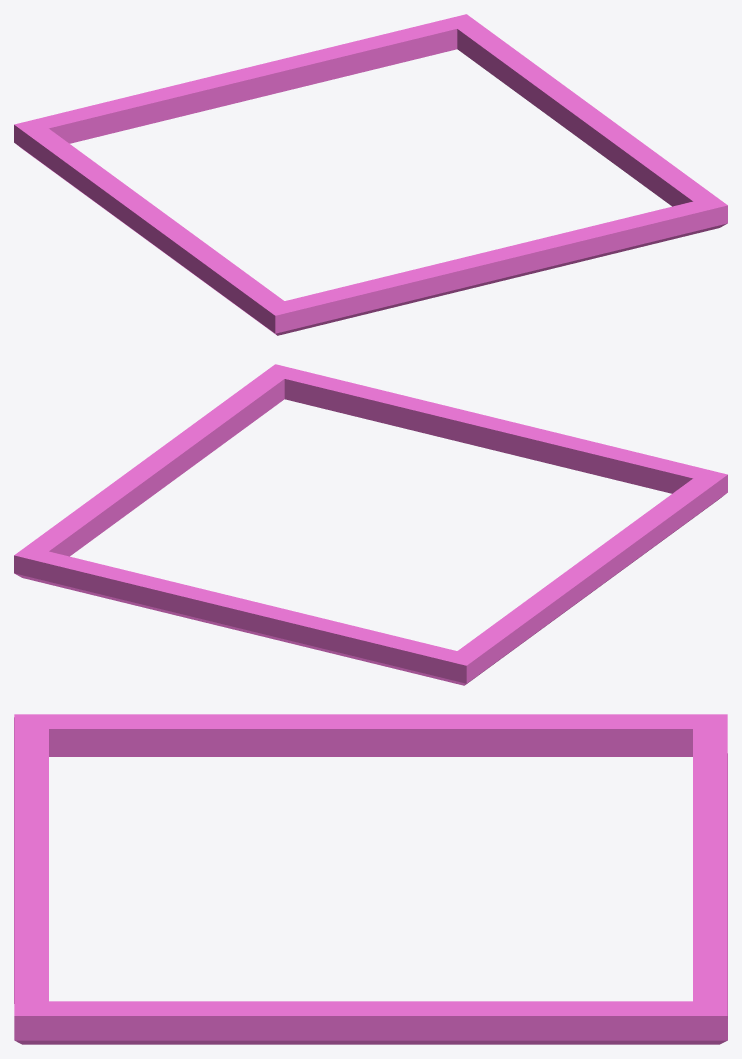
Rendered from SM_Tower_Square_6m_Trim_Stone_Fantasy.fbx.
The picture shows the model from 3 angles, top to bottom: view 1: azimuth 30°, elevation 25°; view 2: azimuth 150°, elevation 25°; view 3: azimuth 270°, elevation 25°; orthographic projection. The views are drawn at different scales.
Visible parts, largest first — view 1: SM_Tower_Square_6m_Trim_Stone_Fantasy; view 2: SM_Tower_Square_6m_Trim_Stone_Fantasy; view 3: SM_Tower_Square_6m_Trim_Stone_Fantasy.
Part boxes in pixels (box(x1,y1,x2,y2)): SM_Tower_Square_6m_Trim_Stone_Fantasy: box(14, 14, 727, 335); SM_Tower_Square_6m_Trim_Stone_Fantasy: box(14, 364, 727, 685); SM_Tower_Square_6m_Trim_Stone_Fantasy: box(14, 714, 727, 1044).
Size of the model in its own units: 6.65 by 0.3294 by 6.65.
